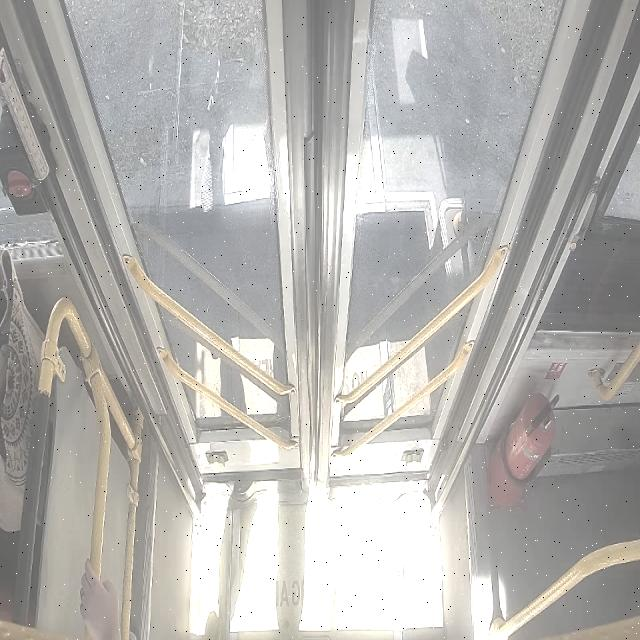close: (63, 0, 566, 486)
